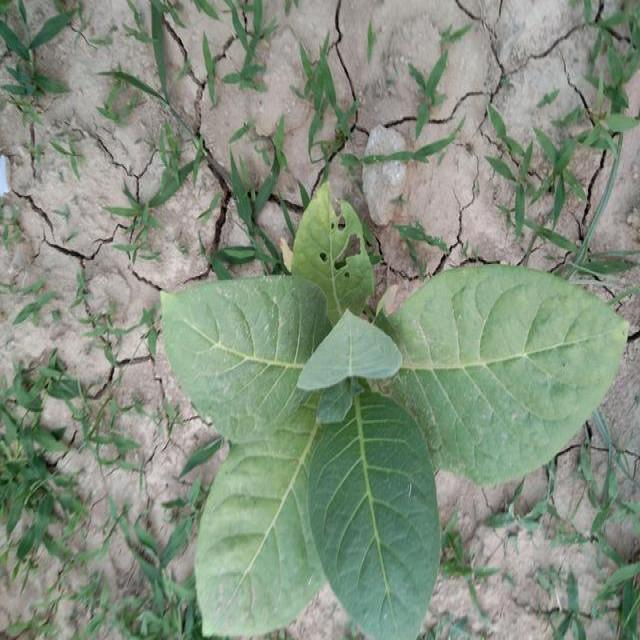crop: (155, 199, 627, 640)
